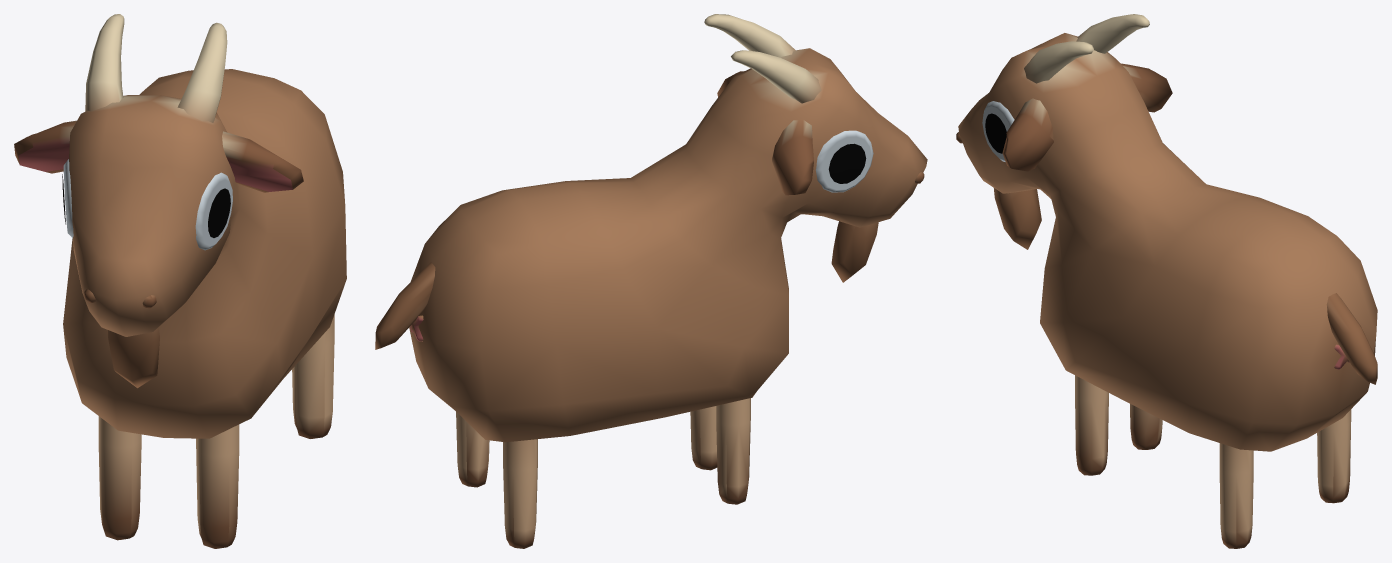
File: Goat.glb
The picture shows the model from 3 angles, left to right: view 1: azimuth 30°, elevation 25°; view 2: azimuth 150°, elevation 25°; view 3: azimuth 270°, elevation 25°; orthographic projection. The views are drawn at different scales.
Visible parts, largest first — view 1: 59; view 2: 59; view 3: 59.
Part boxes in pixels (bbox=[...]): 59: bbox=[14, 14, 346, 548]; 59: bbox=[375, 14, 927, 548]; 59: bbox=[956, 14, 1377, 548].
Bounding box in the file's own units: 0.7802 × 0.9376 × 0.8312.
